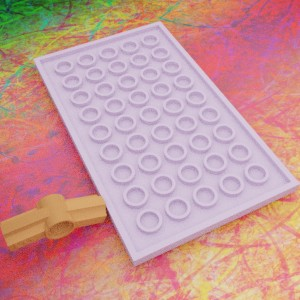lego: (33, 21, 299, 266), (0, 193, 106, 251)
